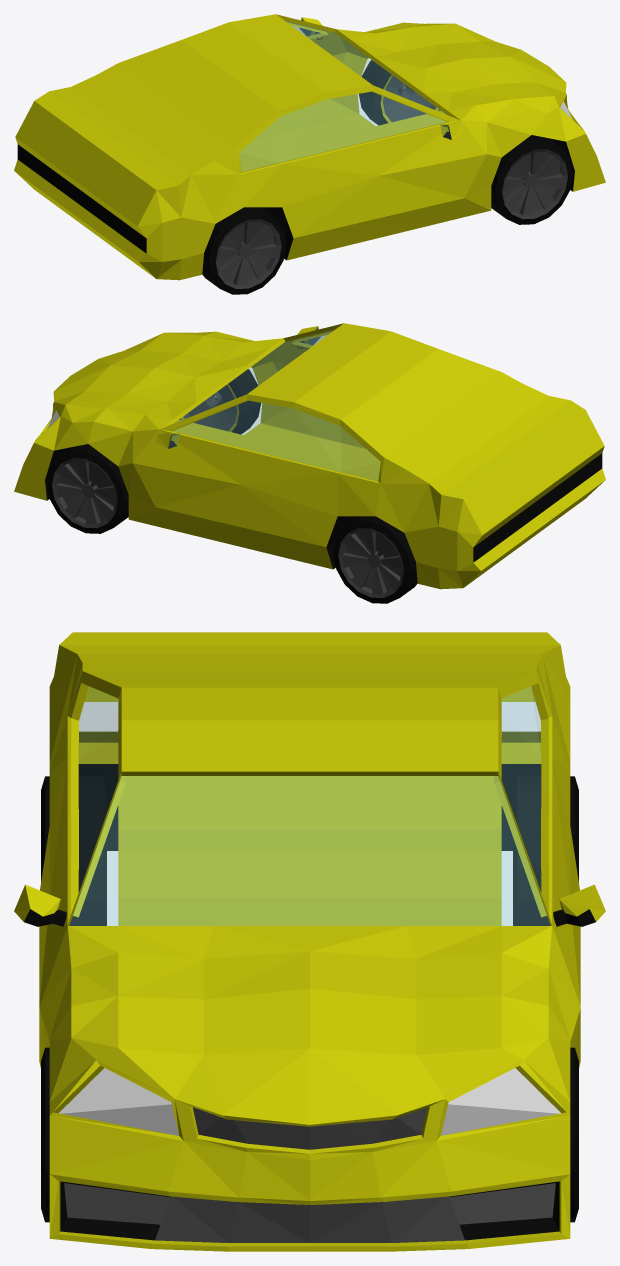
File: YellowCar.obj
3 renders of one model, top to bottom at view 1: azimuth 30°, elevation 25°; view 2: azimuth 150°, elevation 25°; view 3: azimuth 270°, elevation 25°, orthographic. The views are drawn at different scales.
Parts seen in each view (by area): view 1: YellowCar_Material.109, YellowCar_Material.113, YellowCar_Material.111, YellowCar_Material.112; view 2: YellowCar_Material.109, YellowCar_Material.113, YellowCar_Material.111, YellowCar_Material.112; view 3: YellowCar_Material.109, YellowCar_Material.113, YellowCar_Material.114, YellowCar_Material.111, YellowCar_Material.110.
Part boxes in pixels (left/top/right/bottom): YellowCar_Material.109: left=14, top=14, right=605, bottom=280; YellowCar_Material.113: left=239, top=18, right=451, bottom=171; YellowCar_Material.111: left=17, top=28, right=574, bottom=294; YellowCar_Material.112: left=215, top=76, right=567, bottom=288; YellowCar_Material.109: left=14, top=323, right=605, bottom=589; YellowCar_Material.113: left=168, top=327, right=380, bottom=480; YellowCar_Material.111: left=45, top=337, right=602, bottom=603; YellowCar_Material.112: left=52, top=385, right=404, bottom=597; YellowCar_Material.109: left=14, top=632, right=605, bottom=1251; YellowCar_Material.113: left=69, top=686, right=550, bottom=925; YellowCar_Material.114: left=64, top=1107, right=555, bottom=1242; YellowCar_Material.111: left=24, top=764, right=595, bottom=1240; YellowCar_Material.110: left=59, top=1068, right=560, bottom=1135.
Size of the model in its own units: 4.14 by 1.35 by 2.3.
